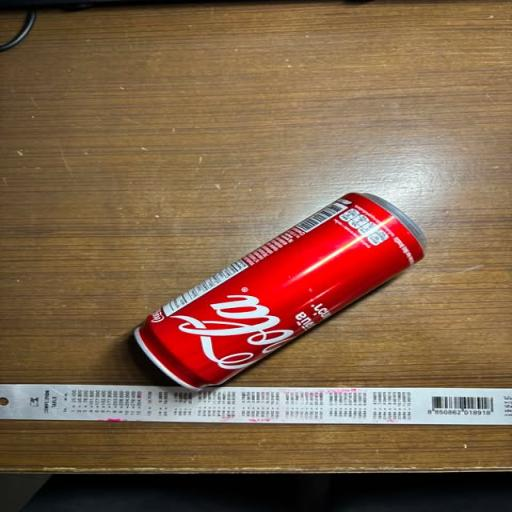canned: (106, 171, 438, 404)
